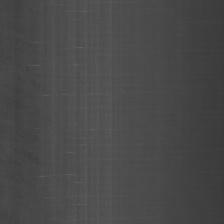waist_folding: (26, 12, 128, 217)
